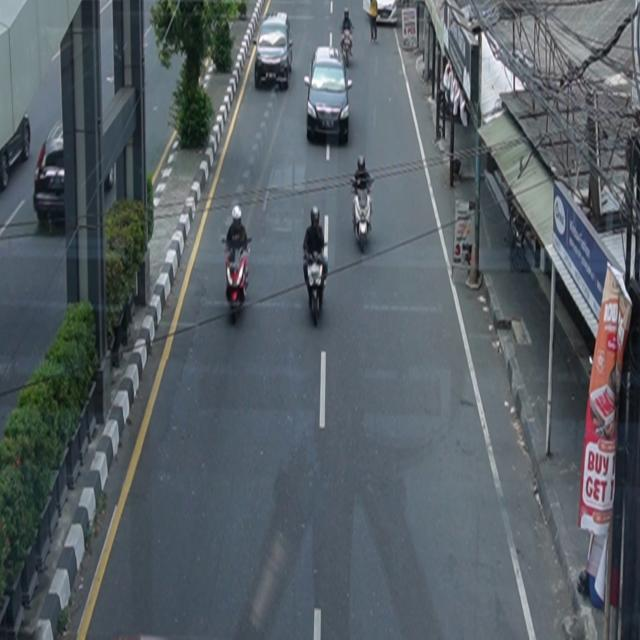car: (34, 119, 114, 226), (304, 46, 354, 146), (255, 12, 294, 91)
